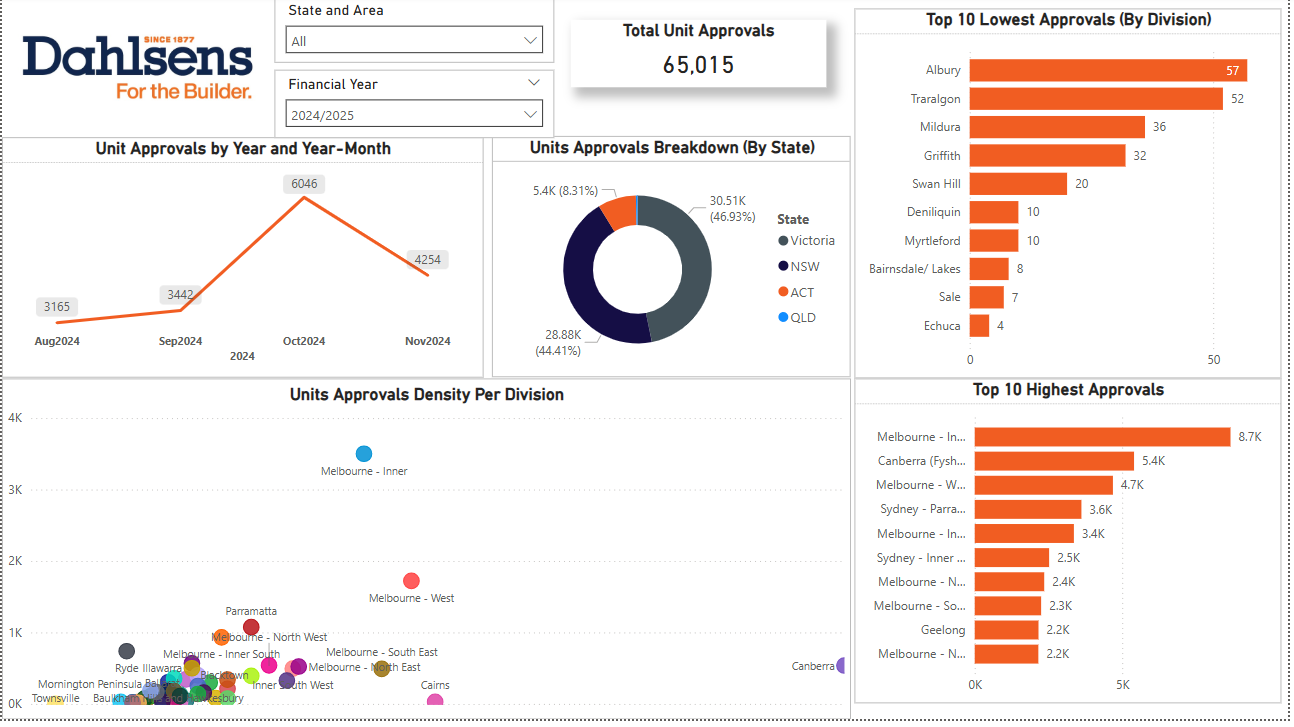

This screenshot's page, from the dashboard's own definition file:
{"tool":"powerbi","page":{"name":"Unit Market Demand Insights","canvas":[1280,720],"ordinal":2},"visuals":[{"type":"donutChart","title":"Units Approvals Breakdown (By State)","fields":{"Y":["Sum(all_units_FY.FY)"],"Category":["DimStateMapping.State1"]},"box":[487.4,139,357.1,240.1],"z":0},{"type":"scatterChart","title":"Units Approvals Density Per Division","fields":{"Category":["DimStateMapping.Stat_Divn1"],"X":["all_houses_variances(M-Y).Local_Govt"],"Series":["DimStateMapping.Stat_Divn1"],"Y":["Sum(all_units_variances(M-Y).ApprovalCount)"]},"box":[0,381.2,844.5,339],"z":2000},{"type":"lineChart","fields":{"Category":["all_units_variances(M-Y).Year","DimCalendar.Year-Month"],"Y":["Sum(all_units_variances(M-Y).ApprovalCount)"]},"box":[0,140.2,479,238.9],"z":3000},{"type":"clusteredBarChart","title":"Top 10 Highest Approvals","fields":{"Category":["DimStateMapping.AreaPartition"],"Y":["Sum(all_units_FY.FY)"]},"box":[848.3,381.2,424.7,323.3],"z":4000},{"type":"clusteredBarChart","title":"Top 10 Lowest Approvals (By Division)","fields":{"Category":["DimStateMapping.AreaPartition"],"Y":["Sum(all_units_FY.FY)"]},"box":[848.3,12.1,424.7,368],"z":5000},{"type":"card","title":"Total Unit Approvals","fields":{"Values":["Sum(all_units_FY.FY)"]},"box":[565.8,24.1,254.6,67.6],"z":6000},{"type":"slicer","fields":{"Values":["DimCalendar.FinancialYear","DimCalendar.FinancialQuarter","DimCalendar.Month"]},"box":[271.3,73.6,278.2,67.8],"z":7000},{"type":"slicer","fields":{"Values":["DimStateMapping.State","DimStateMapping.AreaPartition"]},"box":[271.3,0,278.2,66.7],"z":8000},{"type":"image","box":[0,0,271.3,141.4],"z":9000}]}

Visuals, with their boxes in screenshot pixels (x1, y1, x2, y2), scaled from the page's 1280x720 canvas onto the 1294x727 screenshot:
"Units Approvals Breakdown (By State)" donutChart: region(493, 140, 854, 383)
"Units Approvals Density Per Division" scatterChart: region(0, 385, 854, 726)
lineChart - all_units_variances(M-Y).Year x DimCalendar.Year-Month: region(0, 142, 484, 383)
"Top 10 Highest Approvals" clusteredBarChart: region(858, 385, 1287, 711)
"Top 10 Lowest Approvals (By Division)" clusteredBarChart: region(858, 12, 1287, 384)
"Total Unit Approvals" card: region(572, 24, 829, 93)
slicer - DimCalendar.FinancialYear x DimCalendar.FinancialQuarter: region(274, 74, 556, 143)
slicer - DimStateMapping.State x DimStateMapping.AreaPartition: region(274, 0, 556, 67)
image: region(0, 0, 274, 143)
